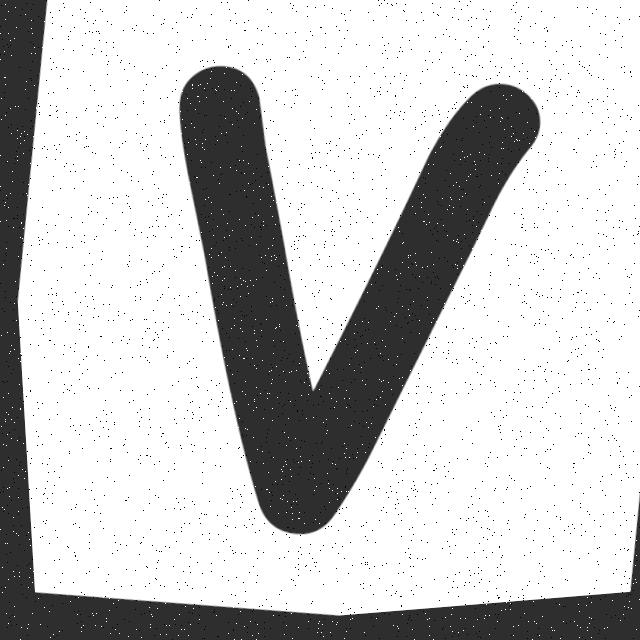V: (178, 70, 538, 538)
